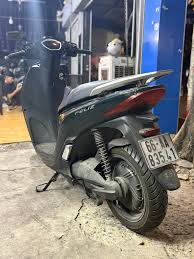Bien-so: (139, 133, 181, 171)
